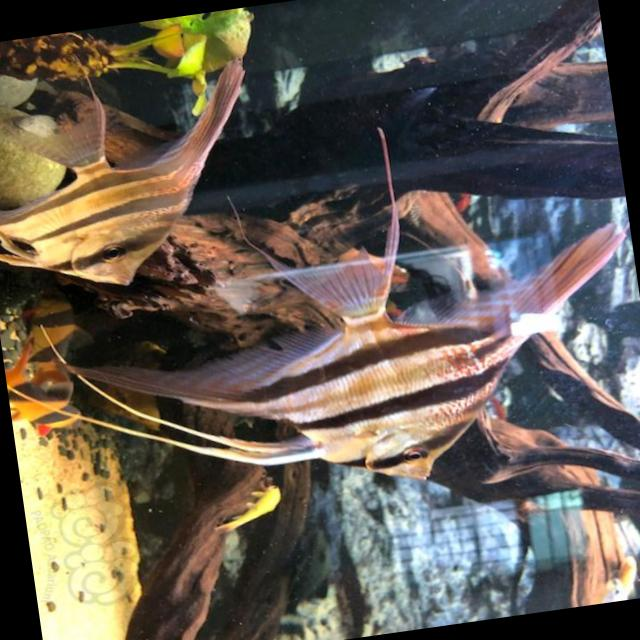AngelFish: (60, 205, 640, 525), (0, 51, 272, 298)
